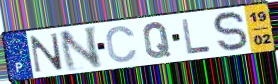C: (104, 24, 140, 64)
L: (179, 18, 213, 56)
N: (57, 24, 104, 74), (29, 31, 65, 74)
Q: (141, 21, 173, 60)
S: (212, 10, 250, 54)
